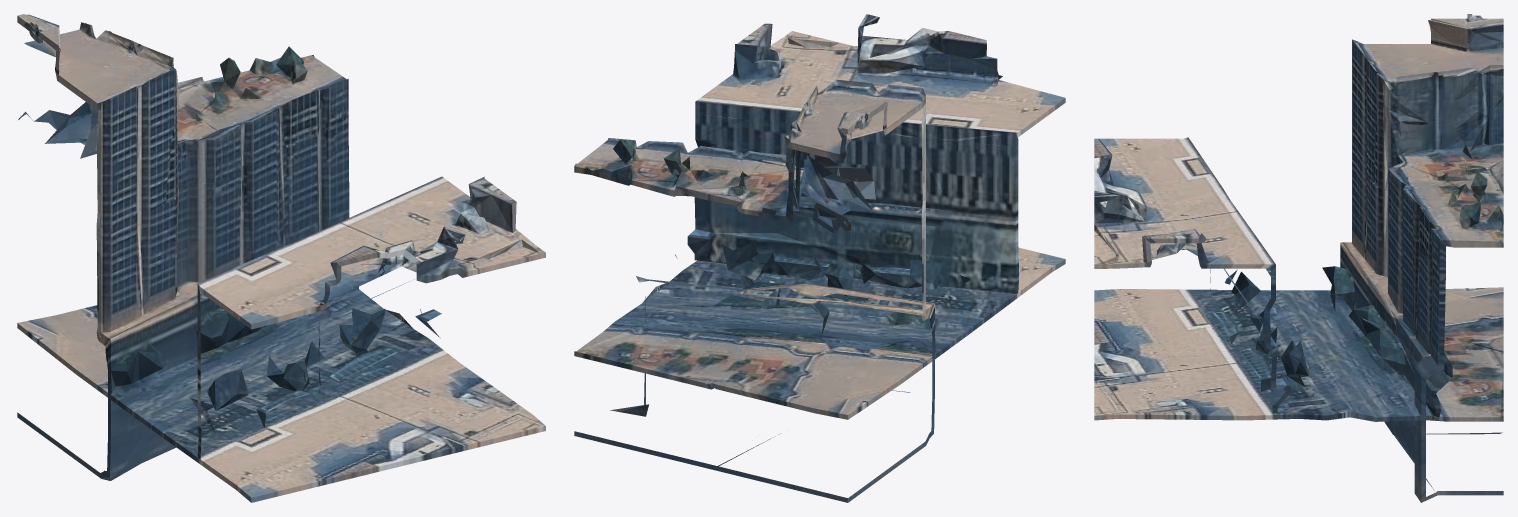
The model's file is chunk_-5_0.glb.
3 views of the same model, side by side, from view 1: azimuth 30°, elevation 25°; view 2: azimuth 150°, elevation 25°; view 3: azimuth 270°, elevation 25° (orthographic). The views are drawn at different scales.
Parts seen in each view (by area): view 1: hero-chunk; view 2: hero-chunk; view 3: hero-chunk.
Boxes of the visible parts, x1,y1,x2,y2 form: hero-chunk: (17, 14, 545, 502); hero-chunk: (574, 14, 1065, 502); hero-chunk: (1094, 14, 1503, 502).
Bounding box in the file's own units: 56.35 × 75.04 × 76.32.
Materials: 3 (3 with a texture image).
